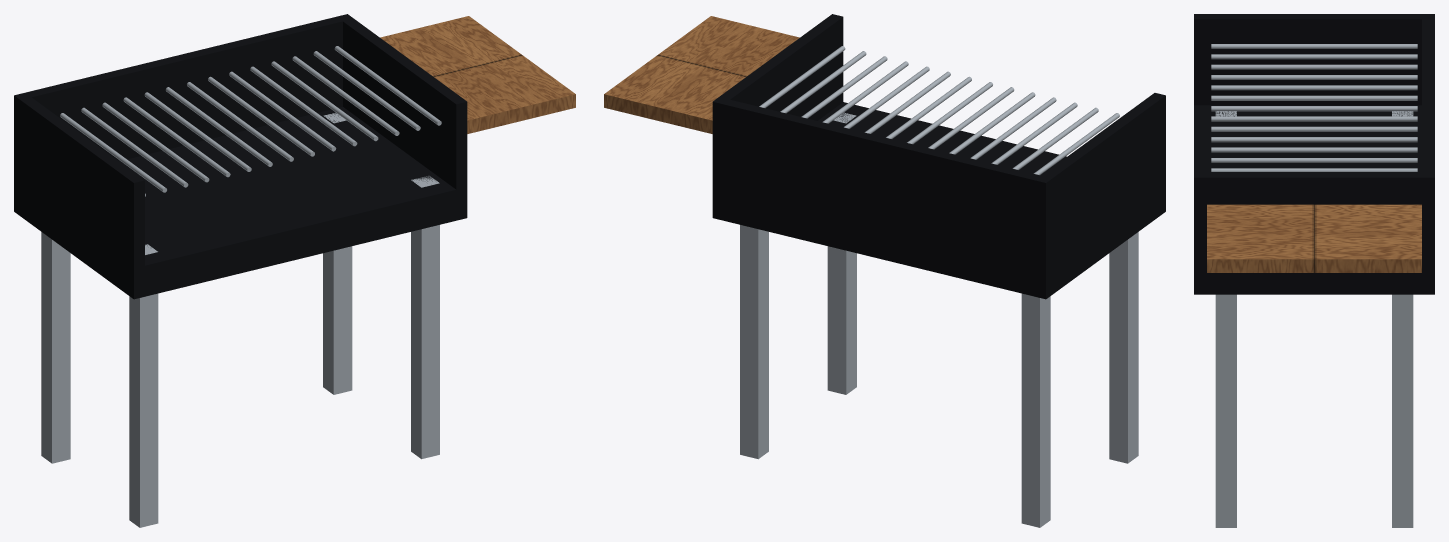
File: Grillsuto.obj
3 renders of one model, left to right at view 1: azimuth 30°, elevation 25°; view 2: azimuth 150°, elevation 25°; view 3: azimuth 270°, elevation 25°, orthographic.
Bounding box in the file's own units: 1.21 × 0.92 × 0.56.
Materials: 3 (1 with a texture image).
